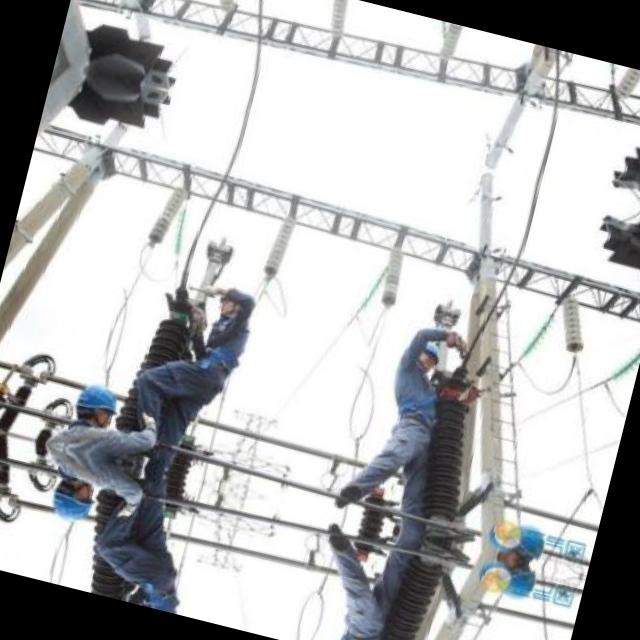helmet: (70, 376, 126, 432), (46, 472, 102, 528), (493, 516, 551, 563), (483, 555, 541, 602), (408, 332, 444, 372)
